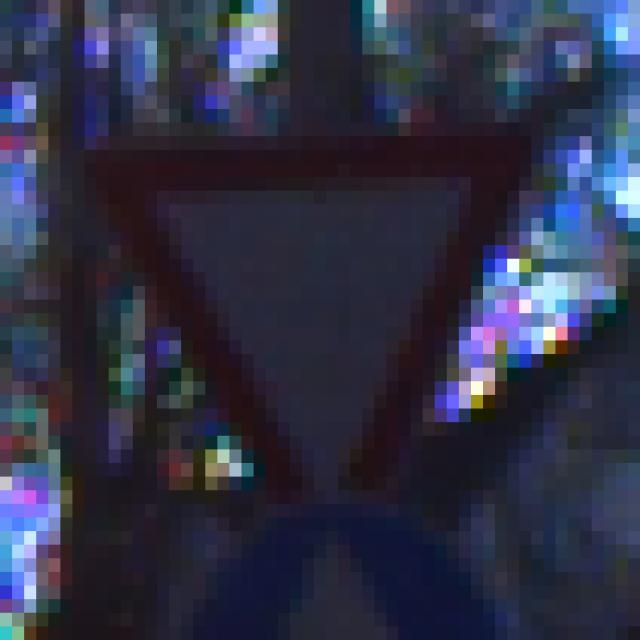Give Way: (62, 83, 581, 573)
